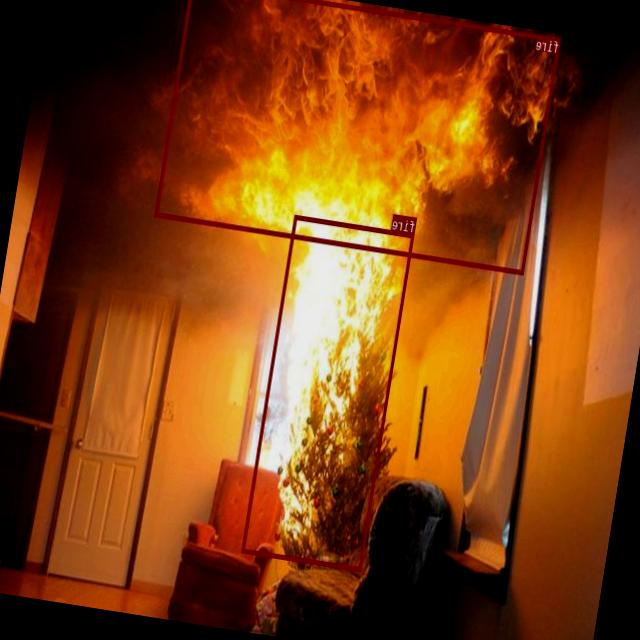fire: (155, 0, 561, 274), (242, 214, 415, 572)
